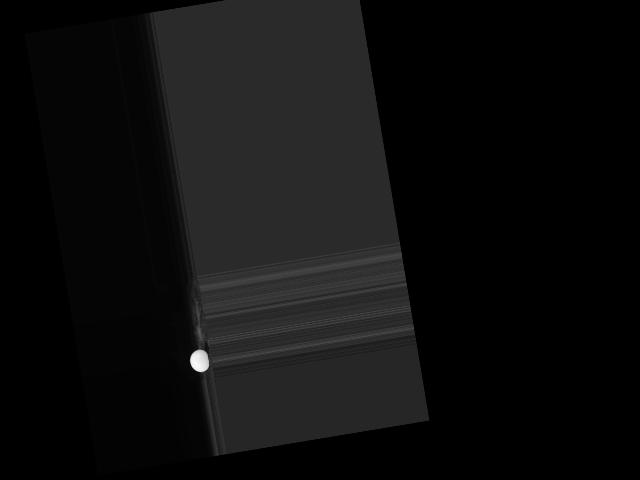egg: (188, 347, 210, 373)
